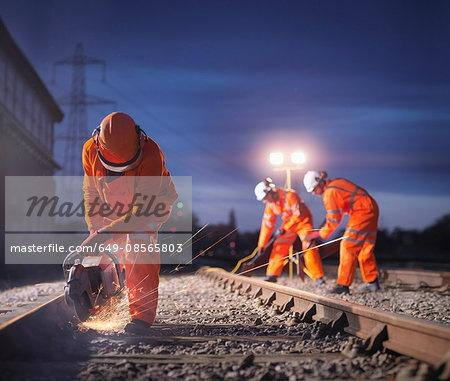Helmet: (94, 111, 140, 171), (302, 167, 326, 193)
Vest: (326, 177, 378, 234)
